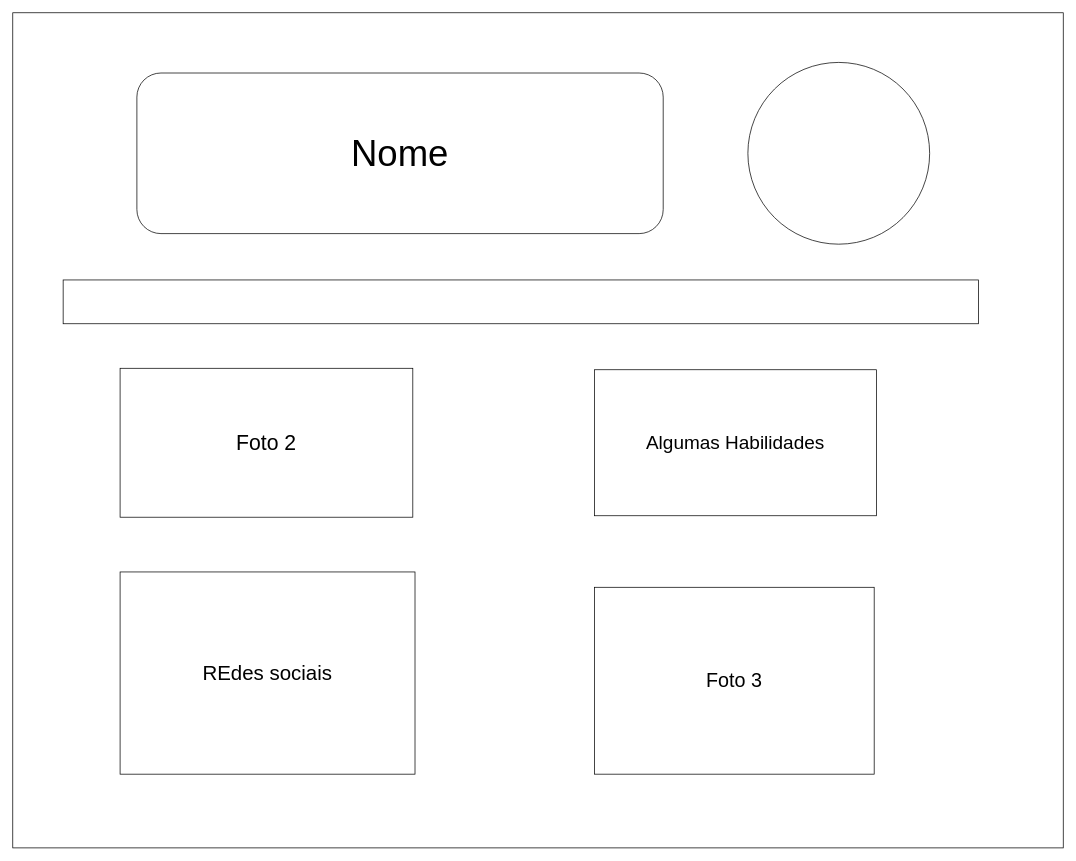
The diagram is 1076 pixels wide and 861 high, and some of its shapes have lost their labels. The shapes that lost their labels are listed below. From the top down, each one's centre as x and y in pixels, then its label:
the point at 838,153: Foto
the point at 520,301: Sobre mim
